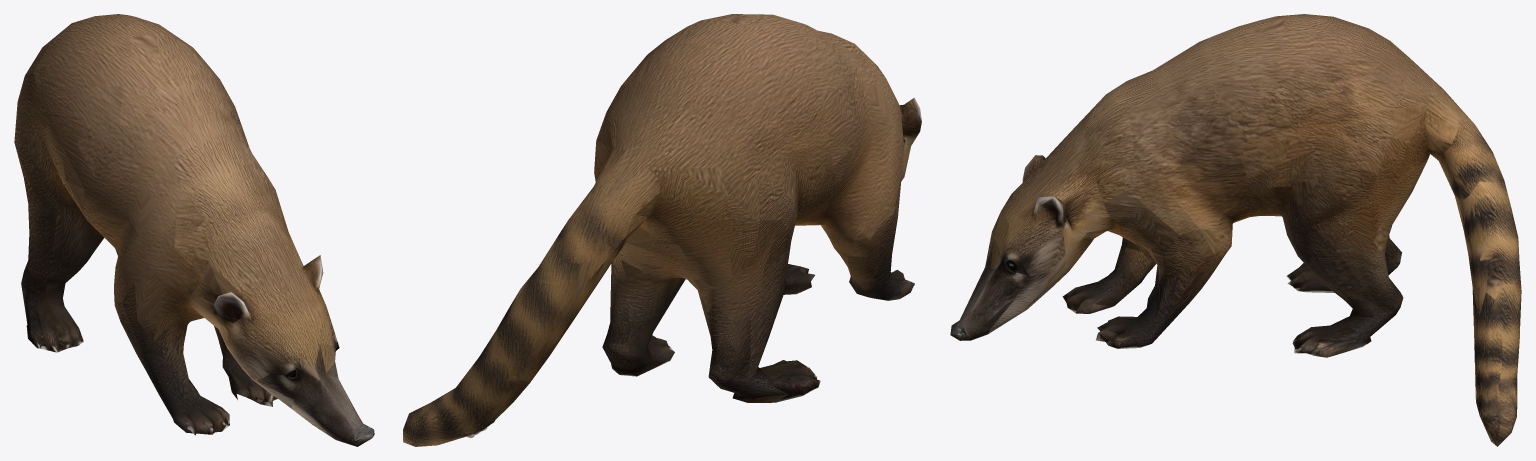
Rendered from coati.glb.
3 renders of one model, left to right at view 1: azimuth 30°, elevation 25°; view 2: azimuth 150°, elevation 25°; view 3: azimuth 270°, elevation 25°, orthographic. The views are drawn at different scales.
Parts seen in each view (by area): view 1: tripo_node_06364bd0; view 2: tripo_node_06364bd0; view 3: tripo_node_06364bd0.
Part boxes in pixels (x1=…): tripo_node_06364bd0: x1=14, y1=14, x2=374, y2=446; tripo_node_06364bd0: x1=403, y1=14, x2=921, y2=446; tripo_node_06364bd0: x1=950, y1=14, x2=1521, y2=446.
Bounding box in the file's own units: 0.5366 × 0.6395 × 0.9832.
1 material, 1 textured.
